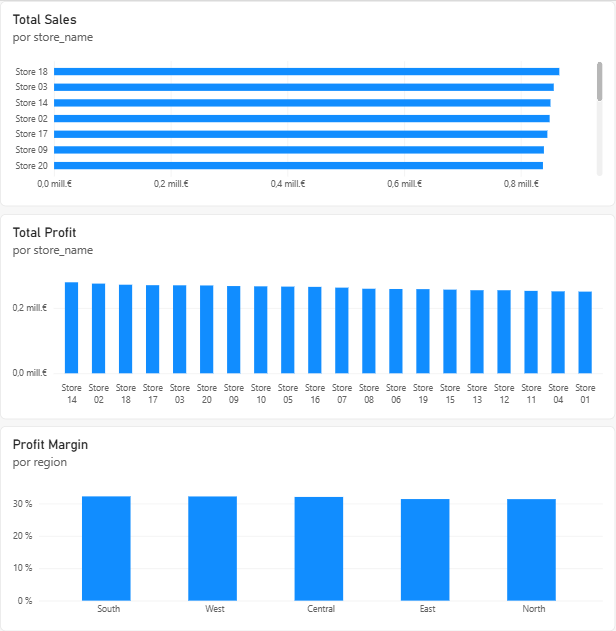

This screenshot's page, from the dashboard's own definition file:
{"tool":"powerbi","page":{"name":"Store Performance","canvas":[1920,1080],"ordinal":2},"visuals":[{"type":"clusteredBarChart","fields":{"Category":["retail dim_store.store_name"],"Y":["retail fact_sales.Total Sales"]},"box":[9.6,0,841.6,280.5],"z":0},{"type":"clusteredColumnChart","fields":{"Category":["retail dim_store.store_name"],"Y":["retail fact_sales.Total Profit"]},"box":[10,291,842,281],"z":1},{"type":"clusteredColumnChart","fields":{"Category":["retail dim_store.region"],"Y":["retail fact_sales.Profit Margin"]},"box":[10,582,842,281],"z":2}]}

Visuals, with their boxes on the page's 1920x1080 design canvas (x1, y1, x2, y2). These are canvas units, not pixel positions in the 616x631 screenshot, which may show the page scaled, cropped or inside an application window:
clusteredBarChart - retail dim_store.store_name x retail fact_sales.Total Sales: rect(10, 0, 851, 280)
clusteredColumnChart - retail dim_store.store_name x retail fact_sales.Total Profit: rect(10, 291, 852, 572)
clusteredColumnChart - retail dim_store.region x retail fact_sales.Profit Margin: rect(10, 582, 852, 863)
